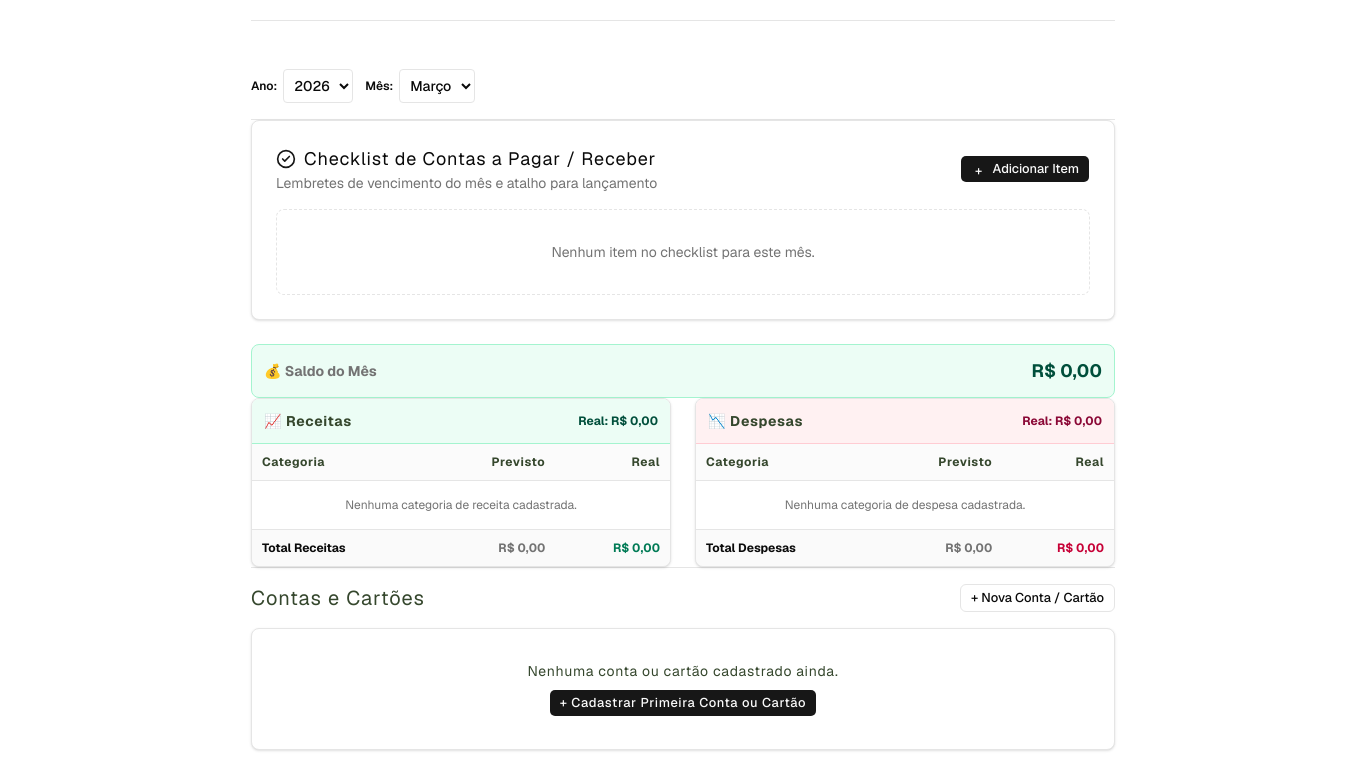
Test: Página de Cadastro de Transações /pluto/transactions › deve abrir o modal dedicado ao clicar em + Nova Conta / Cartão
(page scrolled)
Expected: the dropdown labelled "Ano:" is shown, [283, 69, 353, 103]
Click the button "+ Nova Conta / Cartão" at (1038, 598), box [960, 584, 1115, 612]
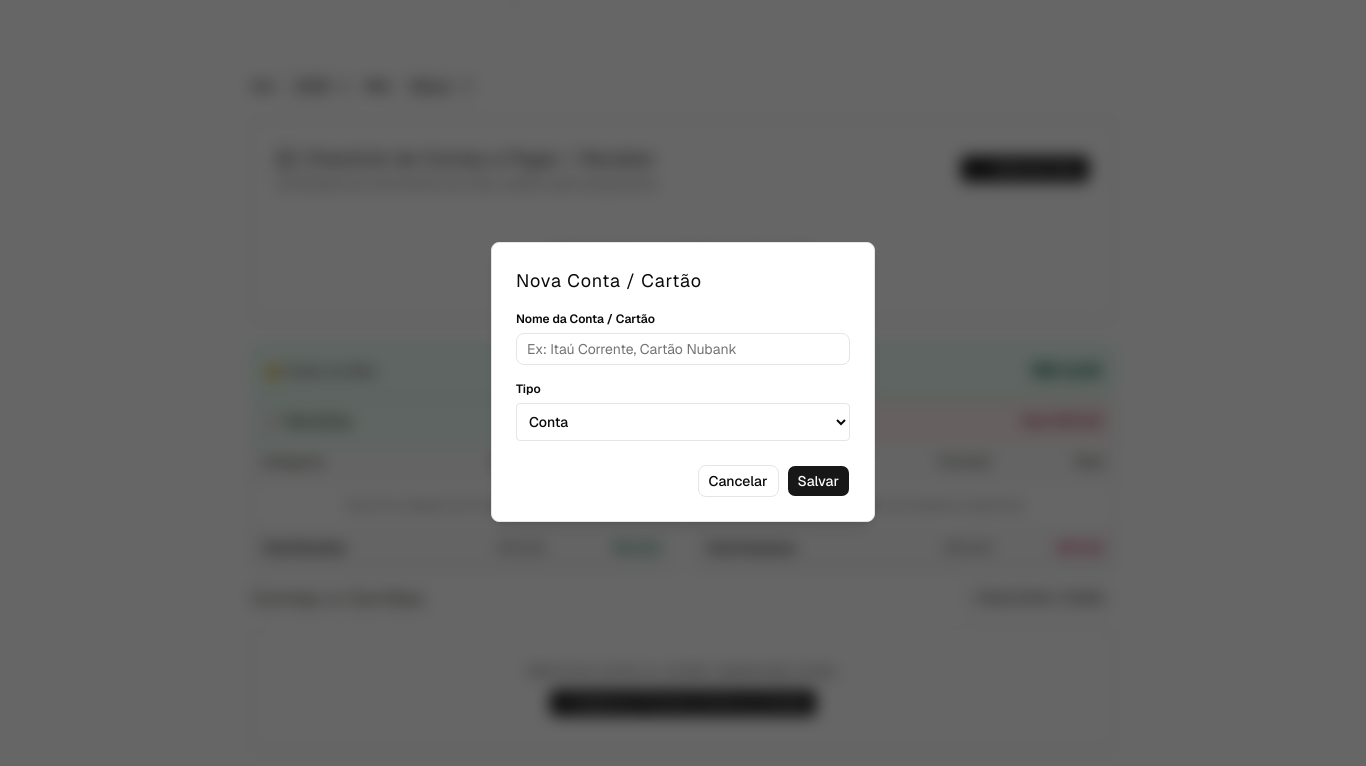
Now the heading "Nova Conta / Cartão" is shown, box [516, 269, 702, 292]
